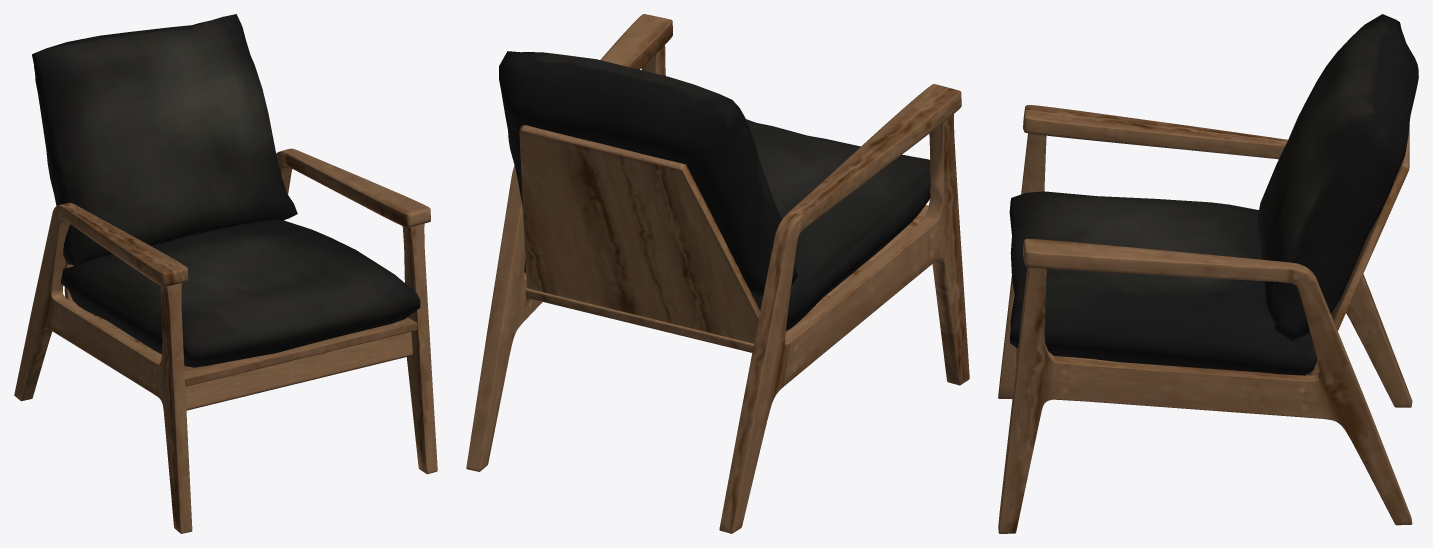
File: armChair.glb
3 views of the same model, side by side, from view 1: azimuth 30°, elevation 25°; view 2: azimuth 150°, elevation 25°; view 3: azimuth 270°, elevation 25° (orthographic). The views are drawn at different scales.
Visible parts, largest first — view 1: modern_arm_chair_01; view 2: modern_arm_chair_01; view 3: modern_arm_chair_01.
Boxes of the visible parts, <box> form: modern_arm_chair_01: <box>14,14,437,533</box>; modern_arm_chair_01: <box>466,14,969,533</box>; modern_arm_chair_01: <box>998,14,1418,533</box>.
Bounding box in the file's own units: 0.8203 × 1.02 × 0.9866.
Materials: 2 (2 with a texture image).
